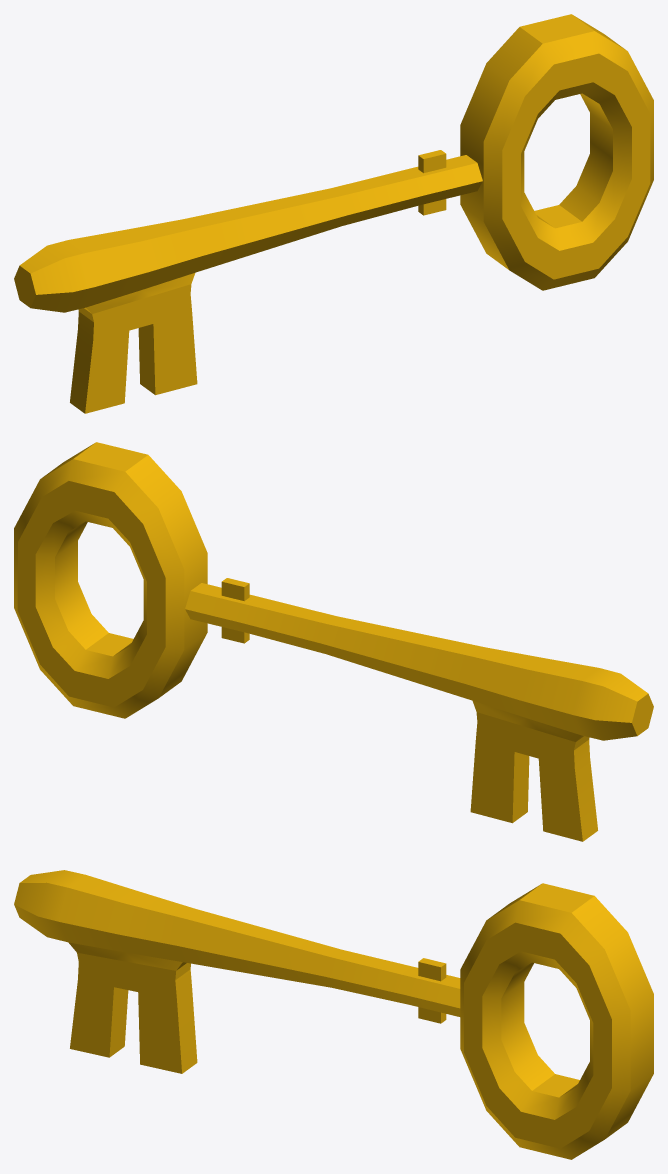
File: key.fbx
3 views of the same model, one above another, from view 1: azimuth 30°, elevation 25°; view 2: azimuth 150°, elevation 25°; view 3: azimuth 330°, elevation 25° (orthographic).
Parts seen in each view (by area): view 1: key; view 2: key; view 3: key.
Part boxes in pixels (x1,y1,x2,y2): key: (14,14,653,413); key: (14,442,653,841); key: (14,870,653,1159).
Size of the model in its own units: 94.36 by 38.32 by 10.21.
